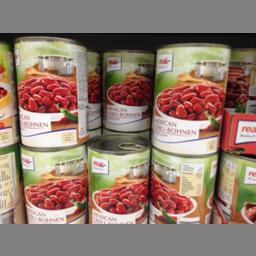beans: (153, 42, 230, 158), (11, 34, 88, 148), (86, 134, 148, 223), (18, 148, 86, 222), (153, 148, 217, 222), (100, 46, 150, 132)
